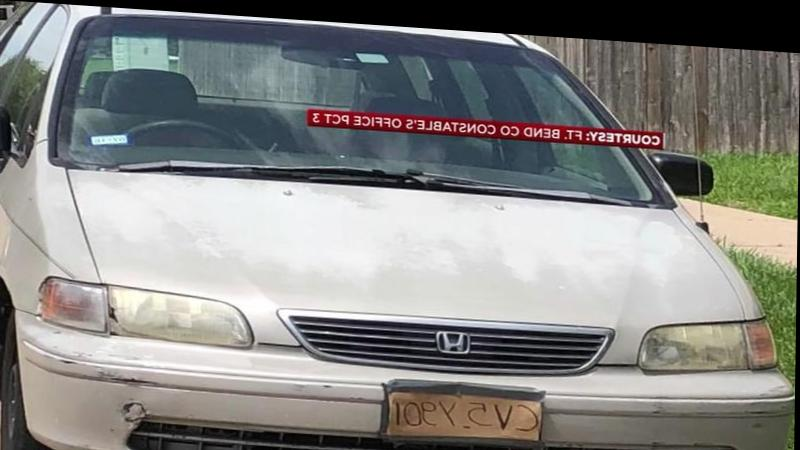License_Plate: (376, 373, 551, 450)
